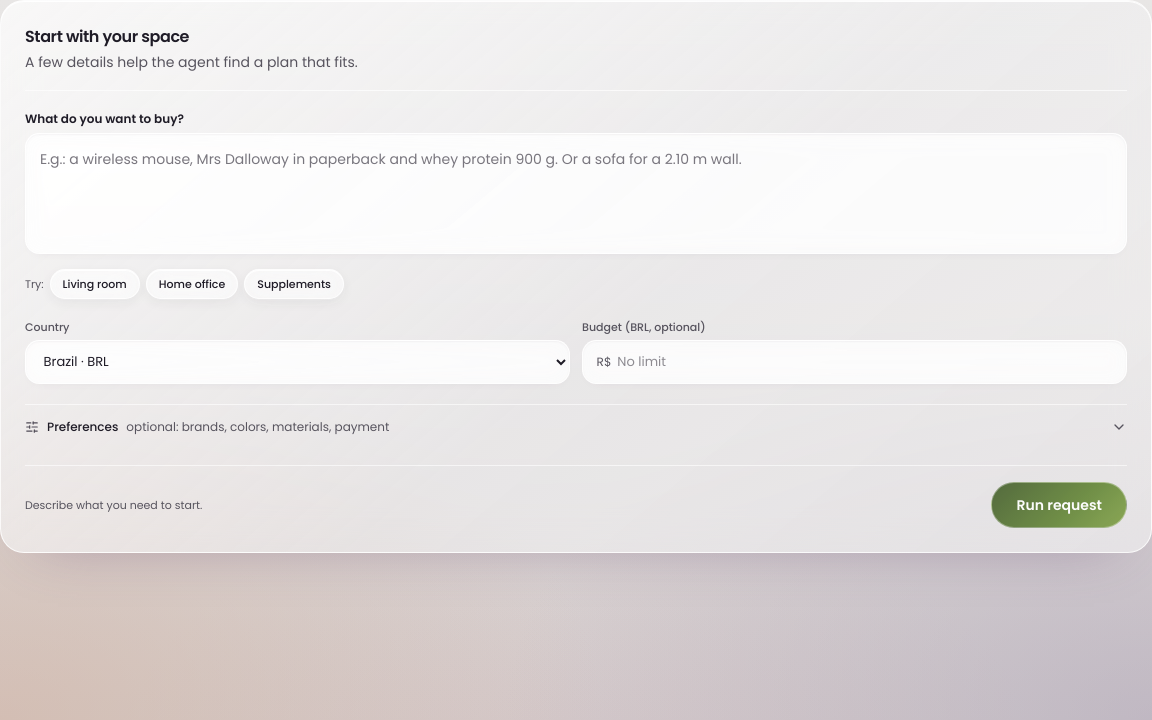
Test: RequestComposer › can run with only a description, because the budget is optional
Expected: the button "Run request" is disabled, [991,482,1127,528]
Expected: the text "Describe what you need to start." is shown, [25,496,202,513]
Replace the text in the text box labelled "What do you want to buy?" with "A sofa for a small living room": [576, 193] box [25,133,1127,254]
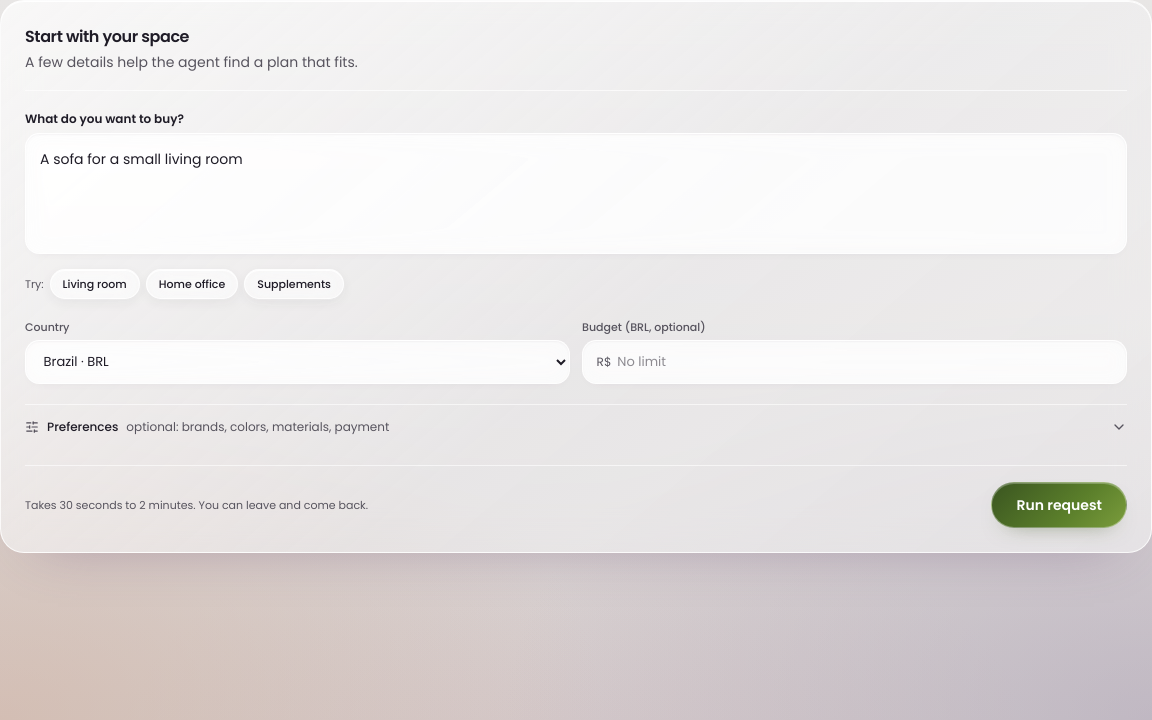
Expected: the button "Run request" is enabled, [991,482,1127,528]
